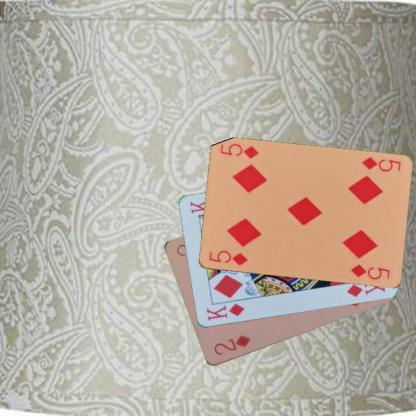2d: (210, 333, 252, 357)
5d: (358, 154, 402, 173), (206, 248, 249, 267)
Kd: (204, 301, 246, 322)
